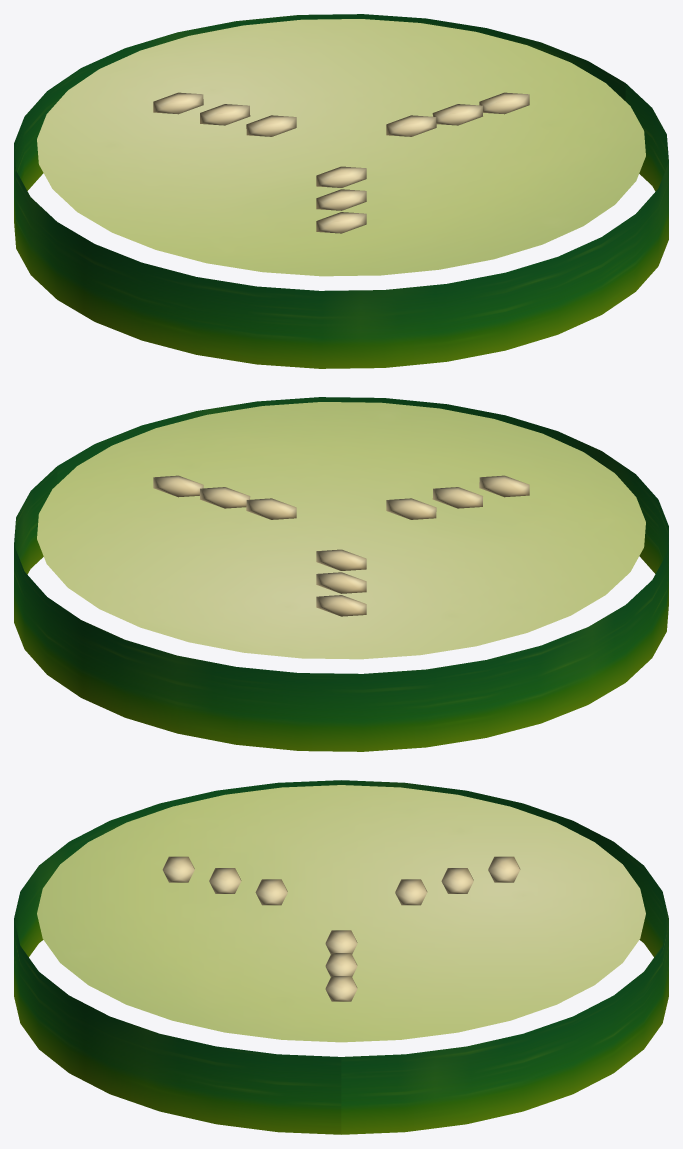
File: NP_Cucumber_Slice.fbx
3 views of the same model, one above another, from view 1: azimuth 30°, elevation 25°; view 2: azimuth 150°, elevation 25°; view 3: azimuth 270°, elevation 25° (orthographic).
Visible parts, largest first — view 1: NP_Cucumber_Slice.001; view 2: NP_Cucumber_Slice.001; view 3: NP_Cucumber_Slice.001.
Boxes of the visible parts, <box> form: NP_Cucumber_Slice.001: <box>14,14,668,368</box>; NP_Cucumber_Slice.001: <box>14,397,668,751</box>; NP_Cucumber_Slice.001: <box>14,780,668,1134</box>.
Size of the model in its own units: 12.2 by 1.93 by 12.2.
